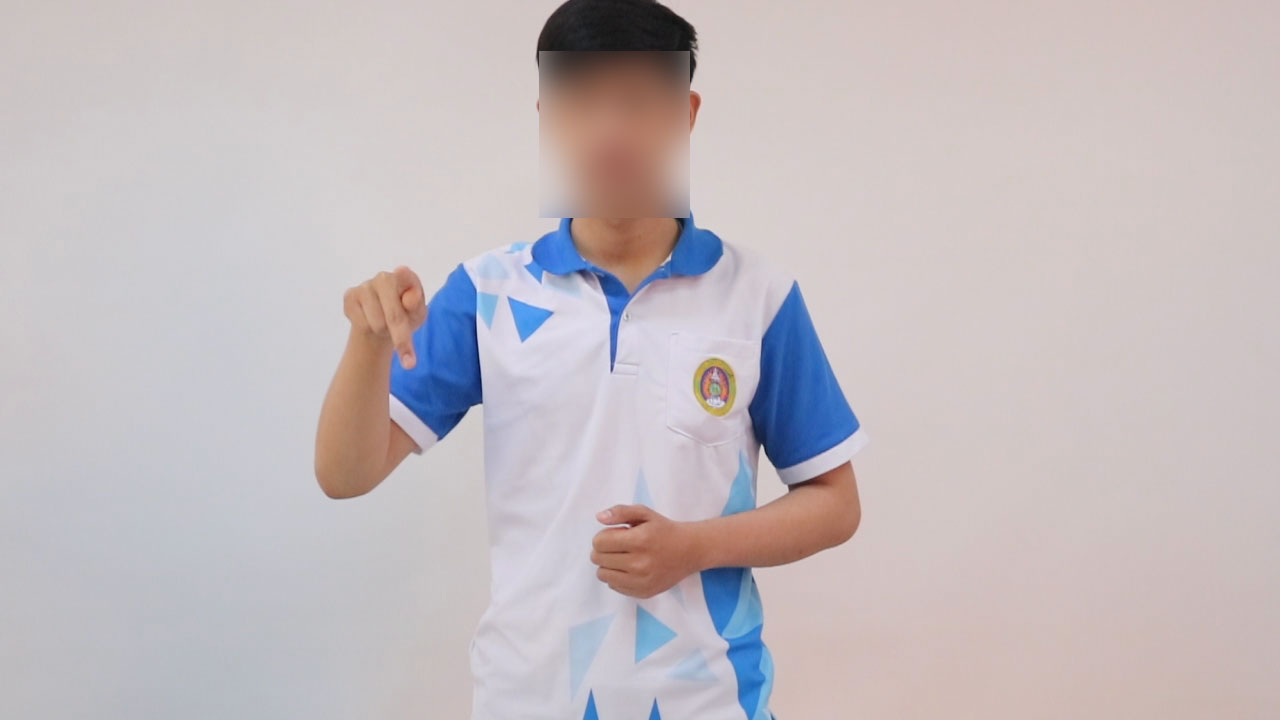por: (332, 248, 440, 378)
